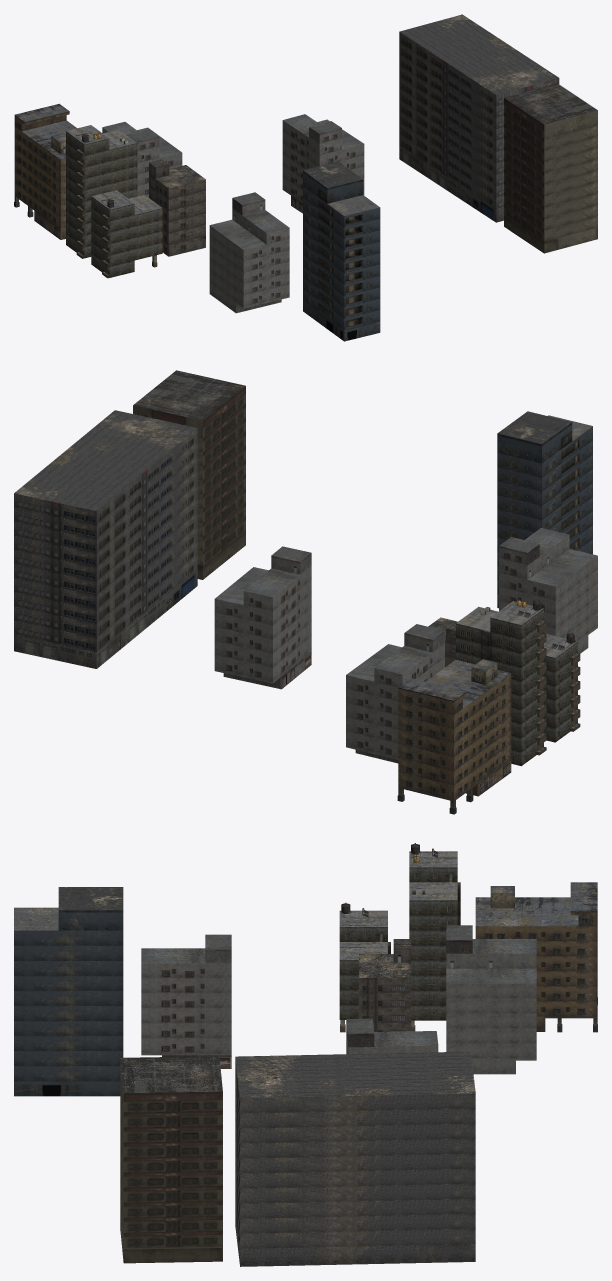
File: BuildingSet_04.FBX
3 views of the same model, one above another, from view 1: azimuth 30°, elevation 25°; view 2: azimuth 150°, elevation 25°; view 3: azimuth 270°, elevation 25° (orthographic). The views are drawn at different scales.
Visible parts, largest first — view 1: BuildingSet_04; view 2: BuildingSet_04; view 3: BuildingSet_04.
Part boxes in pixels (left/top/right/bottom): BuildingSet_04: left=14, top=14, right=597, bottom=341; BuildingSet_04: left=14, top=370, right=597, bottom=814; BuildingSet_04: left=14, top=843, right=597, bottom=1266.
Size of the model in its own units: 19426 by 6326 by 17984.
Materials: 1 (1 with a texture image).
